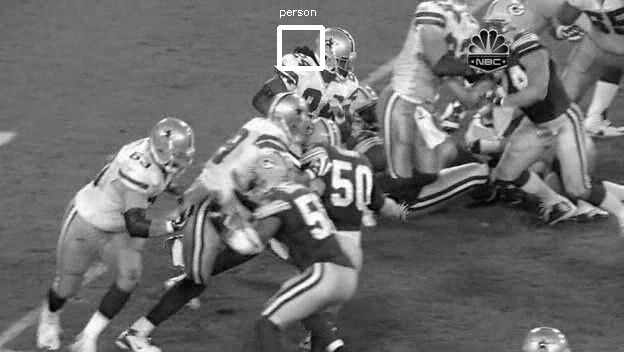person: (322, 26, 357, 71), (321, 26, 356, 71), (323, 26, 358, 71), (322, 25, 357, 70), (322, 27, 357, 72)
target_negative: (289, 185, 533, 305), (157, 108, 190, 278), (227, 109, 296, 145), (351, 221, 404, 261), (311, 71, 406, 86), (586, 70, 591, 84)
